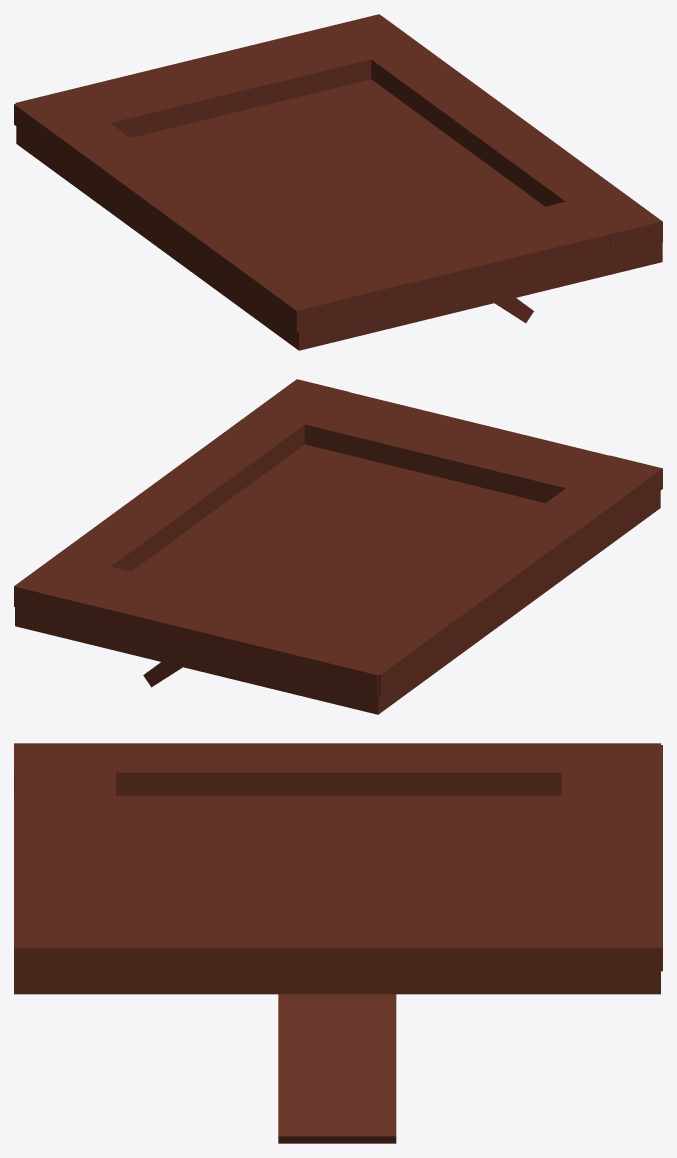
File: photo_frame_1.fbx
The picture shows the model from 3 angles, top to bottom: view 1: azimuth 30°, elevation 25°; view 2: azimuth 150°, elevation 25°; view 3: azimuth 270°, elevation 25°; orthographic projection. The views are drawn at different scales.
Visible parts, largest first — view 1: Cube.002; view 2: Cube.002; view 3: Cube.002.
Boxes of the visible parts, box(x1,y1,x2,y2) form: Cube.002: box(14, 14, 662, 350); Cube.002: box(14, 379, 662, 714); Cube.002: box(14, 743, 662, 1143).
Size of the model in its own units: 636 by 300 by 852.
